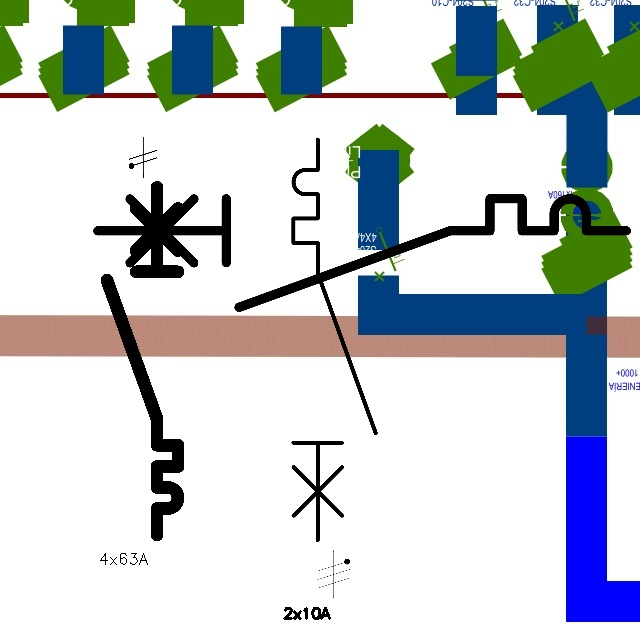interruptor_termomagnetico: (84, 185, 640, 321), (283, 129, 386, 550), (98, 178, 187, 544)
